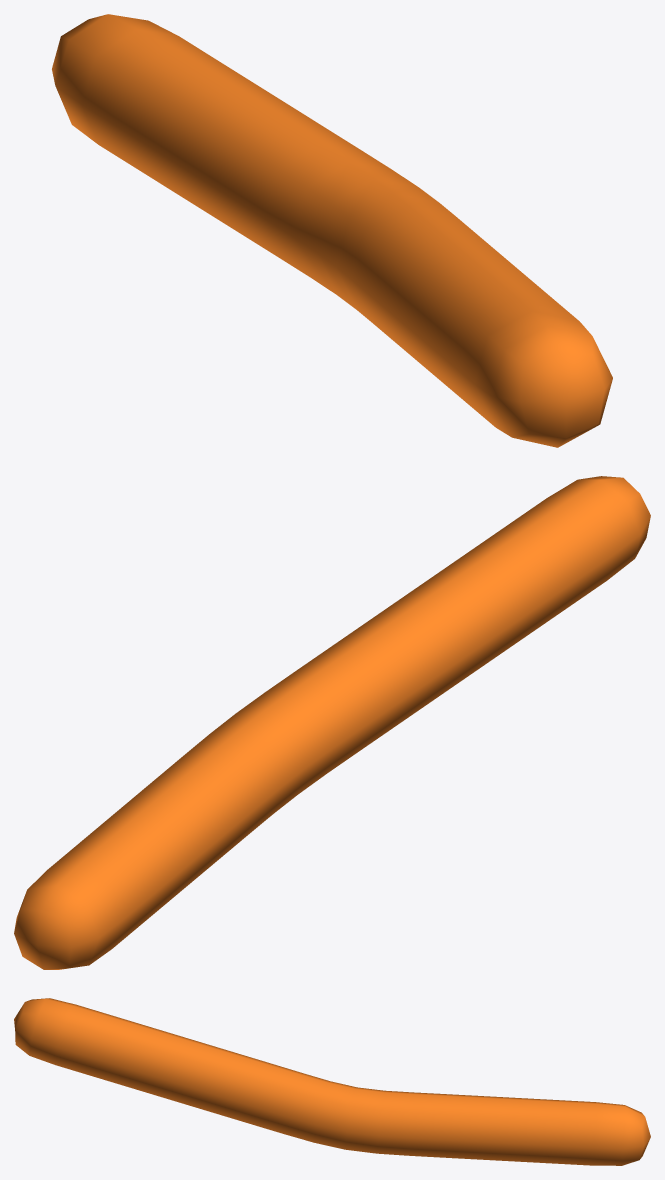
The model's file is GEO_Powertrain_HV_Rear_Cable_R.glb.
3 views of the same model, one above another, from view 1: azimuth 30°, elevation 25°; view 2: azimuth 150°, elevation 25°; view 3: azimuth 270°, elevation 25° (orthographic). The views are drawn at different scales.
Parts seen in each view (by area): view 1: GEO_Powertrain_HV_Rear_Cable_R; view 2: GEO_Powertrain_HV_Rear_Cable_R; view 3: GEO_Powertrain_HV_Rear_Cable_R.
Part boxes in pixels (bbox=[...]): GEO_Powertrain_HV_Rear_Cable_R: bbox=[52, 14, 612, 447]; GEO_Powertrain_HV_Rear_Cable_R: bbox=[14, 476, 650, 969]; GEO_Powertrain_HV_Rear_Cable_R: bbox=[14, 998, 650, 1165].
Size of the model in its own units: 0.081 by 0.0802 by 0.3547.
